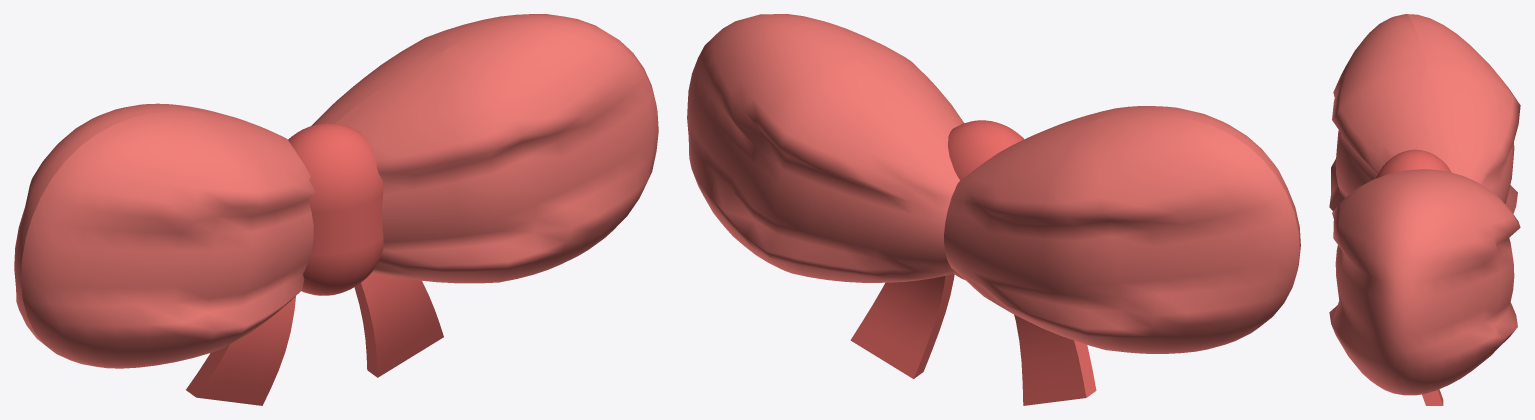
The model's file is acc-bow.glb.
3 views of the same model, side by side, from view 1: azimuth 30°, elevation 25°; view 2: azimuth 150°, elevation 25°; view 3: azimuth 270°, elevation 25° (orthographic). The views are drawn at different scales.
Bounding box in the file's own units: 1.26 × 0.6179 × 0.398.
